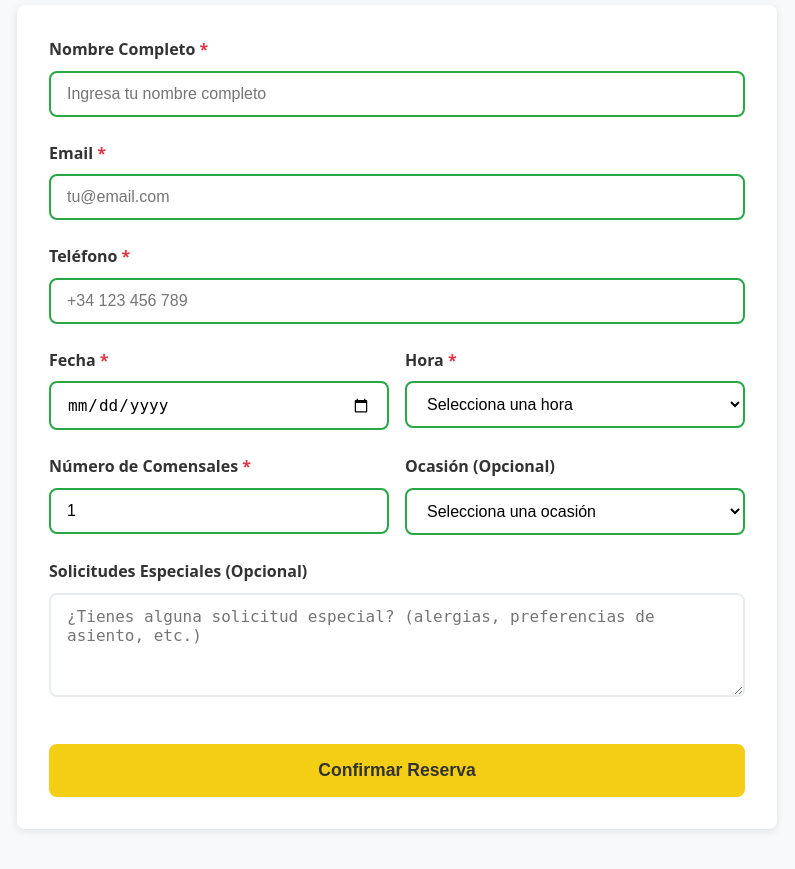
BookingForm › shows validation errors for empty required fields
(page scrolled)
Step 1. Click the button "Confirmar Reserva" → (397, 771), box [49,744,745,797]
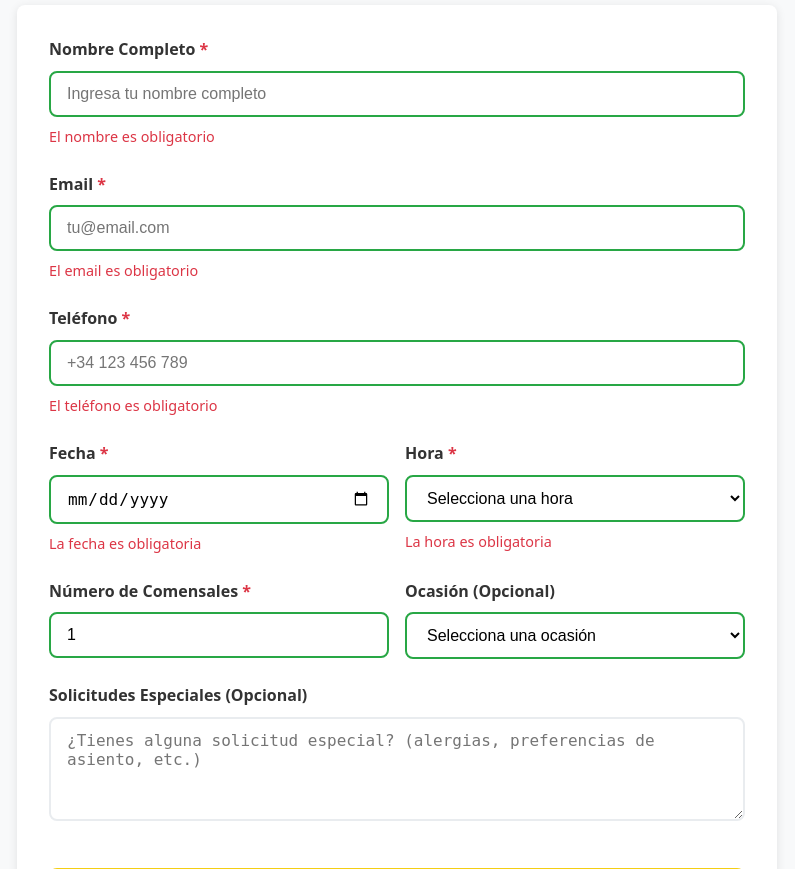
Expected: the text "El nombre es obligatorio" is shown, [49,127,215,146]
Expected: the text "El email es obligatorio" is shown, [49,261,198,280]
Expected: the text "El teléfono es obligatorio" is shown, [49,396,218,415]
